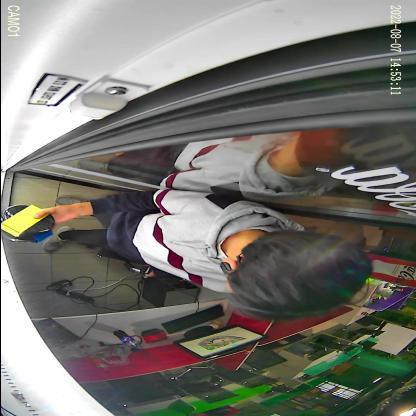blue: (0, 230, 52, 243)
yellow: (0, 204, 54, 238)
